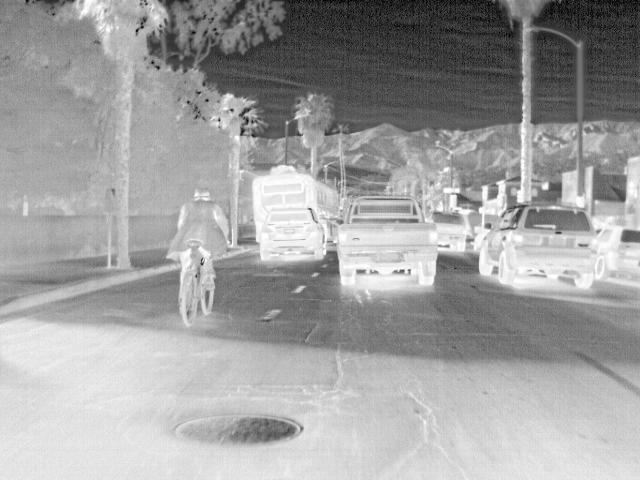car: (478, 204, 597, 288), (336, 194, 439, 288), (259, 207, 326, 259), (590, 223, 640, 283), (433, 209, 467, 251), (473, 234, 485, 252)
person: (176, 184, 229, 278)
